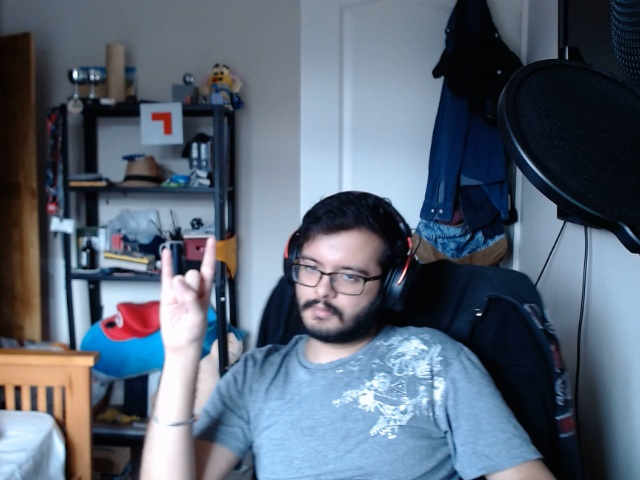Rock on: (147, 225, 230, 358)
